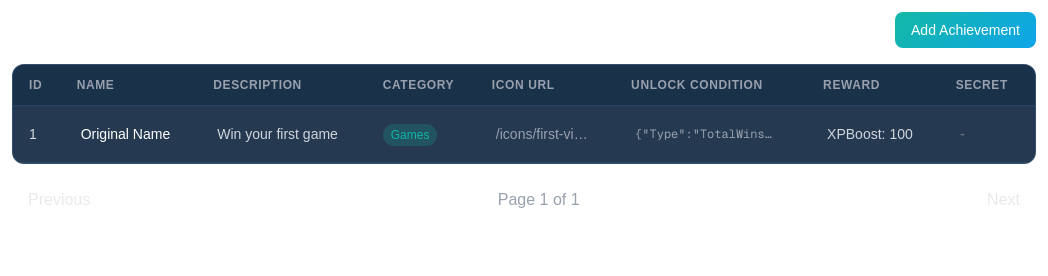
Test case: AchievementsTable › inline editing › cancels on Escape key
This screenshot has width=1048, height=276.
Note: Click to edit
Click the text "Original Name".
click(125, 134)  # box [77,126,174,142]
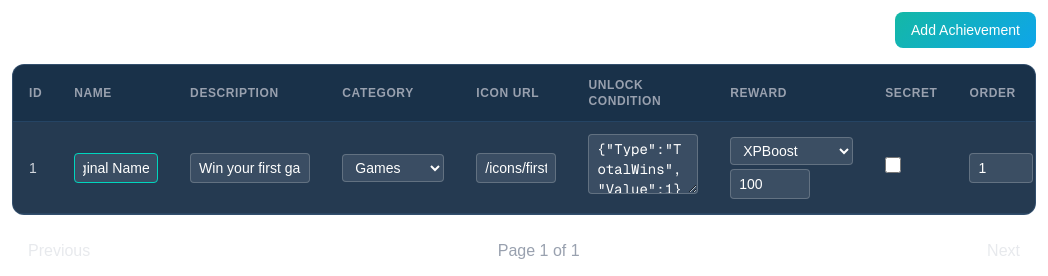
Replace the text in the 1st field showing "Original Name" with "New Name" at (116, 168), box [74,152,158,182]
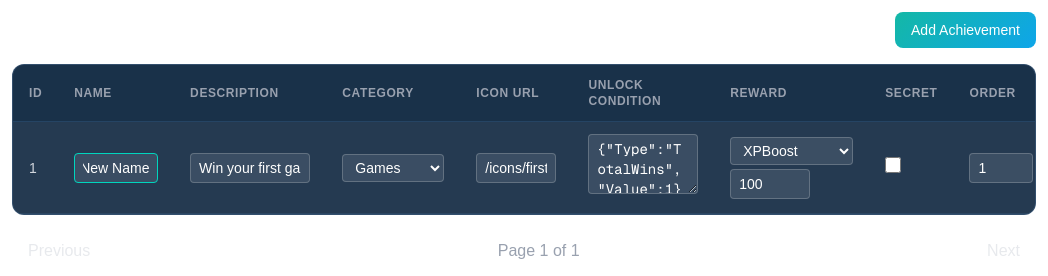
Press Escape in the 1st field showing "Original Name", box [74,152,158,182]
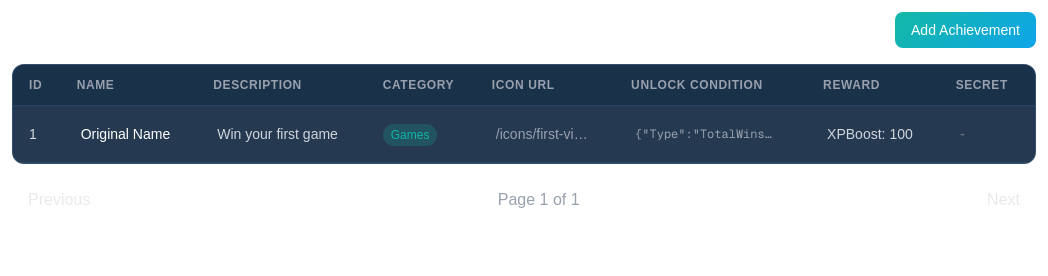
Expected: the field showing "New Name" is not shown
Result: the text "Original Name" is shown at [77,126,174,142]
